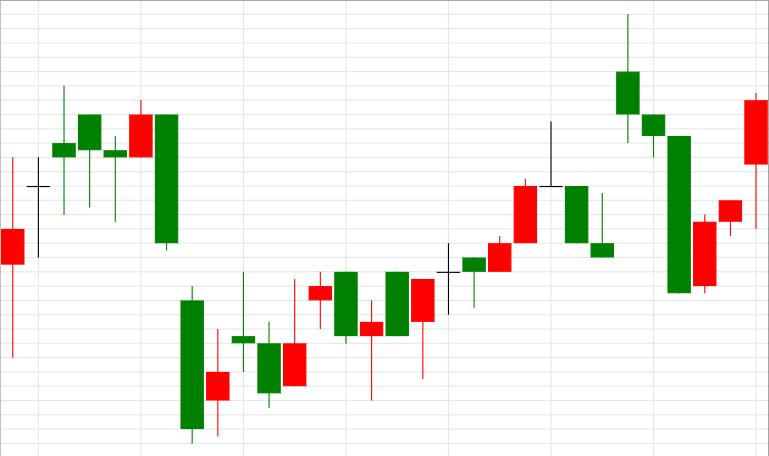evening_star_fall: (411, 122, 588, 379)
hanging_man_fall: (1, 86, 101, 357)
three_white_soldiers_rise: (616, 14, 769, 293)
